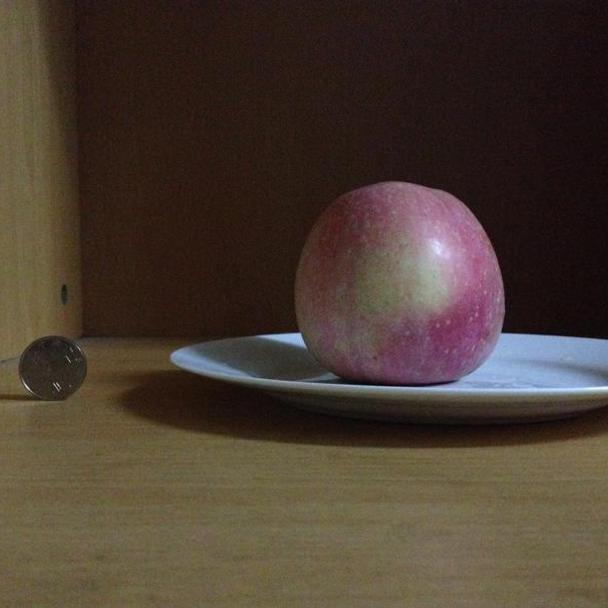apple: (292, 181, 506, 386)
